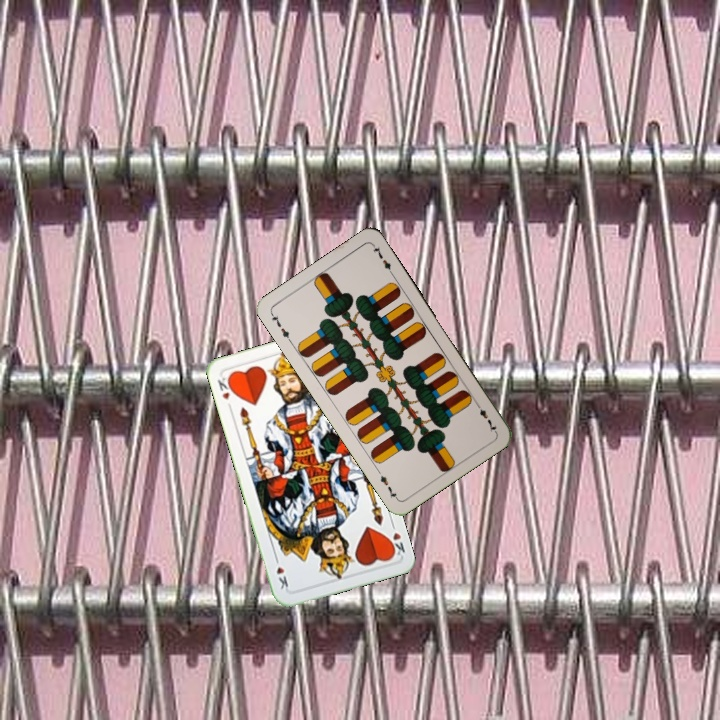E7: (472, 398, 499, 435), (267, 309, 294, 345)
HK: (384, 518, 408, 559), (214, 373, 236, 403)
